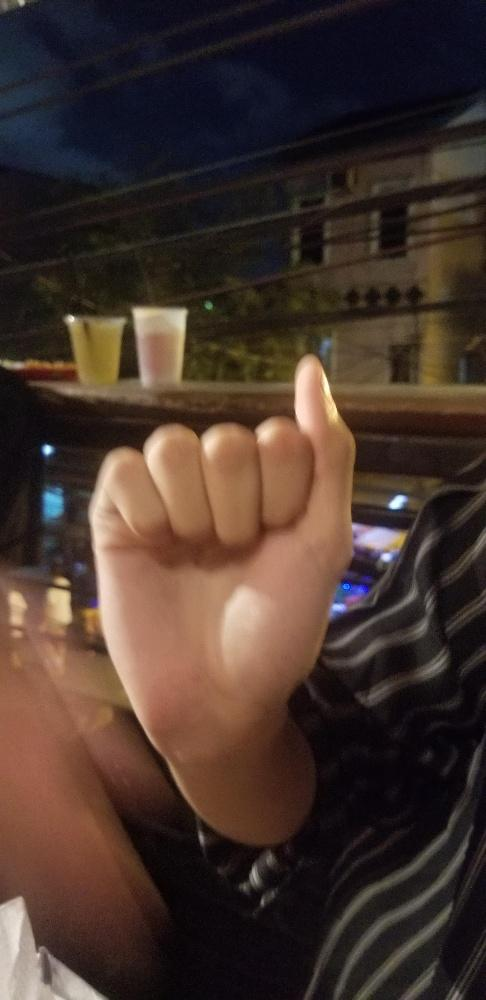a: (86, 351, 359, 760)
